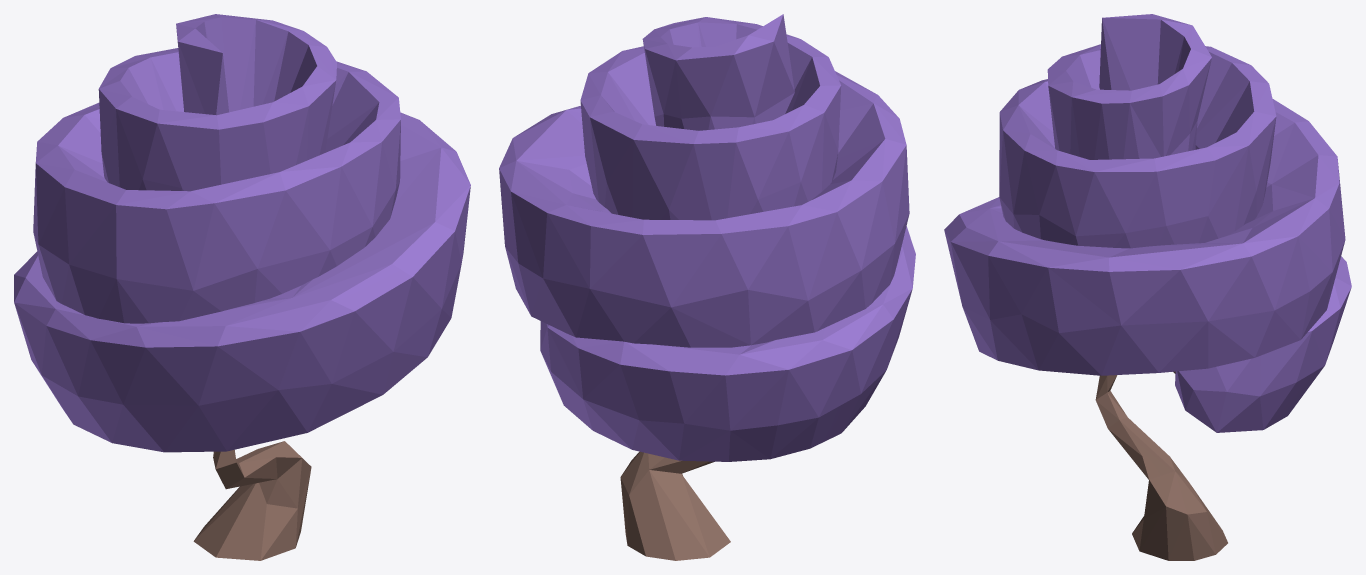
Rendered from fantasy_plant_051.fbx.
3 views of the same model, side by side, from view 1: azimuth 30°, elevation 25°; view 2: azimuth 150°, elevation 25°; view 3: azimuth 270°, elevation 25° (orthographic). The views are drawn at different scales.
Visible parts, largest first — view 1: fantasy_plant.051; view 2: fantasy_plant.051; view 3: fantasy_plant.051.
Part boxes in pixels (<box>): fantasy_plant.051: <box>14,14,470,560</box>; fantasy_plant.051: <box>499,14,915,560</box>; fantasy_plant.051: <box>944,14,1351,560</box>.
Bounding box in the file's own units: 1015 × 1343 × 1009.
Materials: 1 (1 with a texture image).
